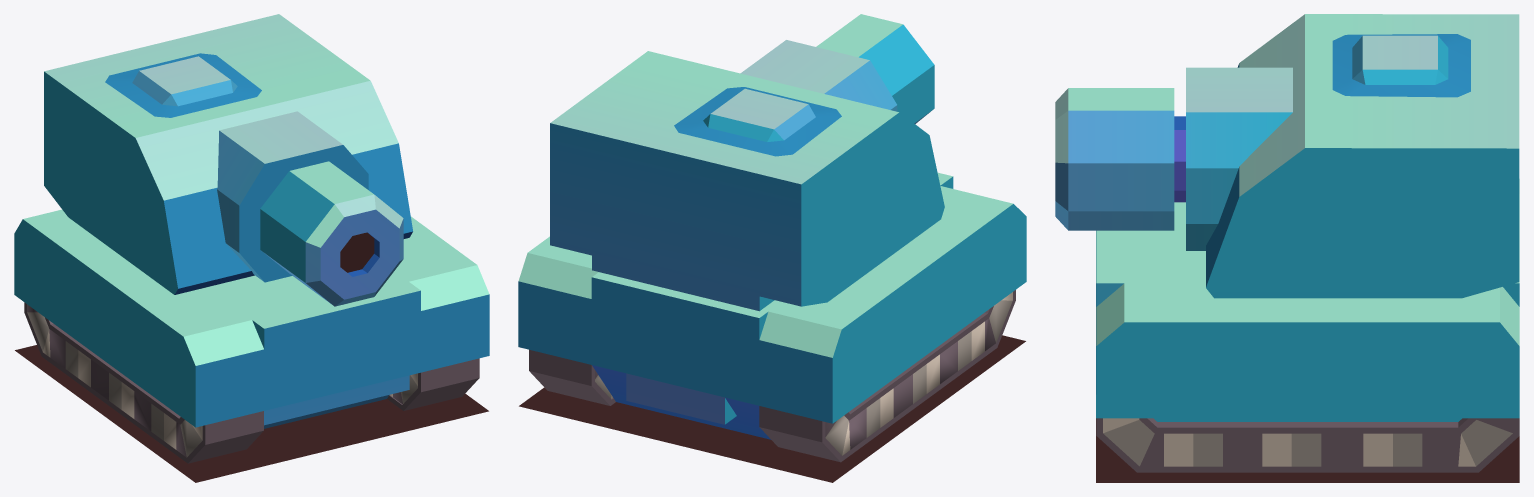
The model's file is TankMesh.AzureAsteroid.glb.
3 views of the same model, side by side, from view 1: azimuth 30°, elevation 25°; view 2: azimuth 150°, elevation 25°; view 3: azimuth 270°, elevation 25° (orthographic). The views are drawn at different scales.
Parts seen in each view (by area): view 1: TankMesh.AzureAsteroid; view 2: TankMesh.AzureAsteroid; view 3: TankMesh.AzureAsteroid.
Part boxes in pixels (left/top/right/bottom): TankMesh.AzureAsteroid: left=14, top=14, right=489, bottom=482; TankMesh.AzureAsteroid: left=518, top=14, right=1026, bottom=482; TankMesh.AzureAsteroid: left=1055, top=14, right=1519, bottom=482.
Size of the model in its own units: 1.5 by 1.38 by 1.76.
1 material, 1 textured.
